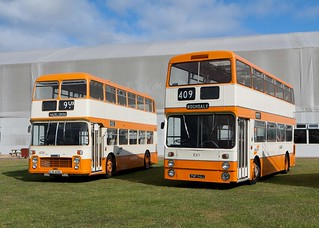bus: (162, 50, 294, 186), (27, 72, 159, 178)
